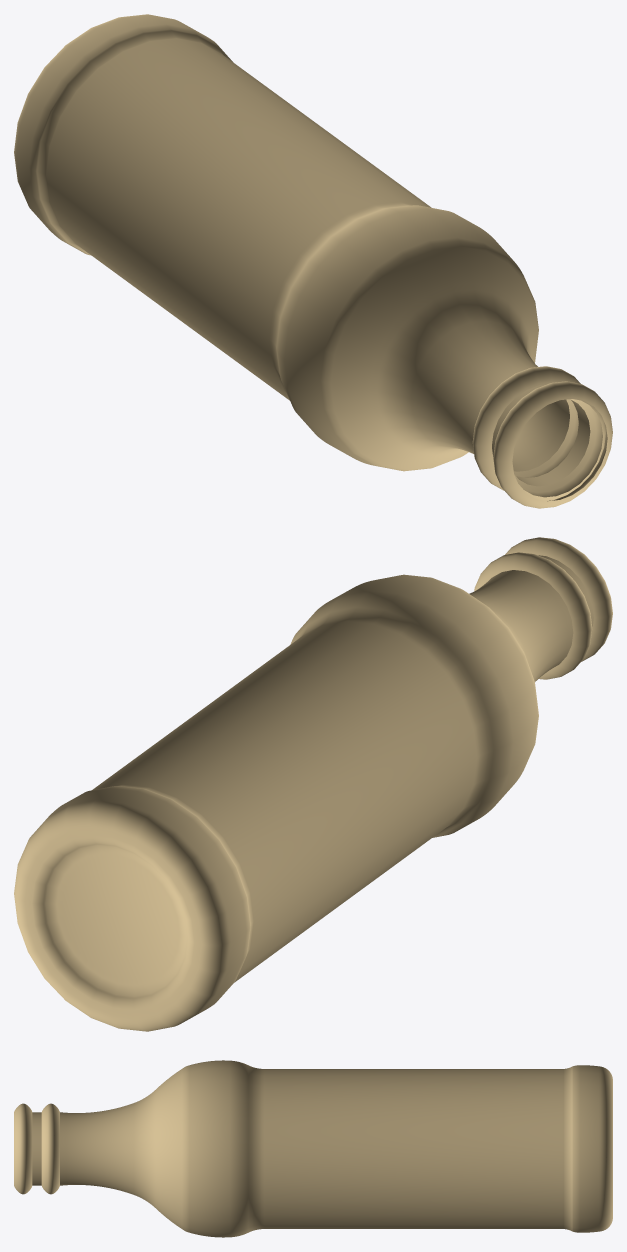
The model's file is model_align.obj.
3 views of the same model, one above another, from view 1: azimuth 30°, elevation 25°; view 2: azimuth 150°, elevation 25°; view 3: azimuth 270°, elevation 25° (orthographic). The views are drawn at different scales.
Parts seen in each view (by area): view 1: mesh2_mesh2-geometry, mesh1_mesh1-geometry, mesh3_mesh3-geometry; view 2: mesh2_mesh2-geometry; view 3: mesh2_mesh2-geometry.
Part boxes in pixels (left/top/right/bottom): mesh2_mesh2-geometry: left=14, top=14, right=612, bottom=508; mesh1_mesh1-geometry: left=512, top=399, right=578, bottom=477; mesh3_mesh3-geometry: left=514, top=399, right=602, bottom=497; mesh2_mesh2-geometry: left=14, top=537, right=612, bottom=1031; mesh2_mesh2-geometry: left=14, top=1060, right=612, bottom=1237.
Bounding box in the file's own units: 0.0728 × 0.0728 × 0.2456.
